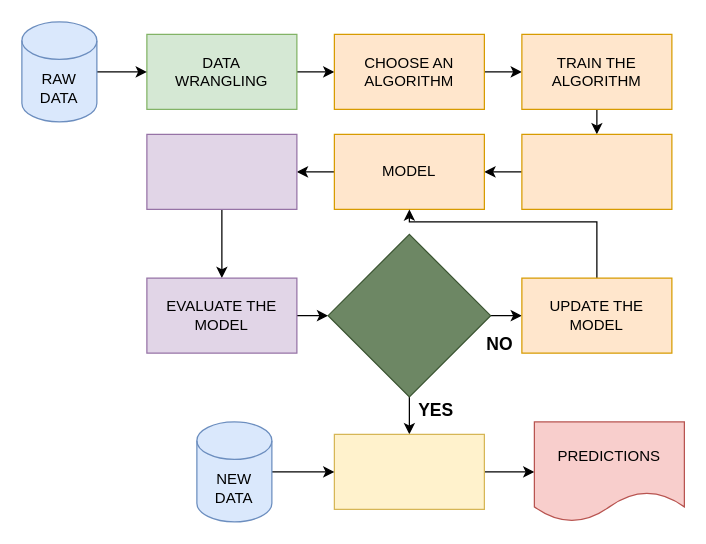
Some shapes in this 706 by 544 pixel diagram are drawn without their labels. Here are the shapes that lost their labels. From the top down, the centre of each, then its label:
At [221,171]: "VALIDATION METHOD".
At [596,171]: "FIT THE MODEL".
At [409,315]: "GOOD PERFORMANCE".
At [408,471]: "USE FITTED MODEL FOR PREDICTIONS".
